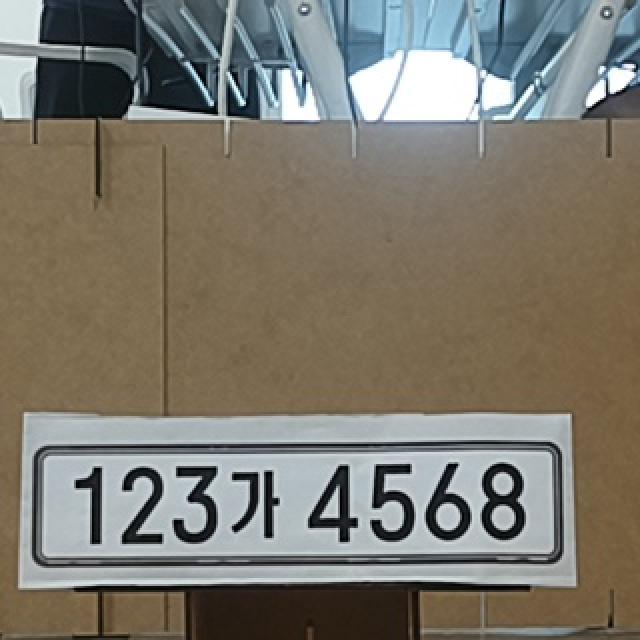normal: (33, 447, 559, 565)
